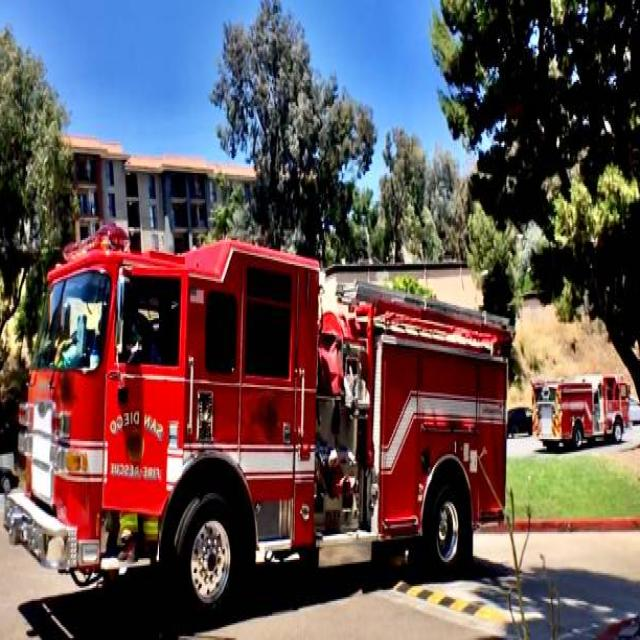emergency: (5, 231, 511, 614)
